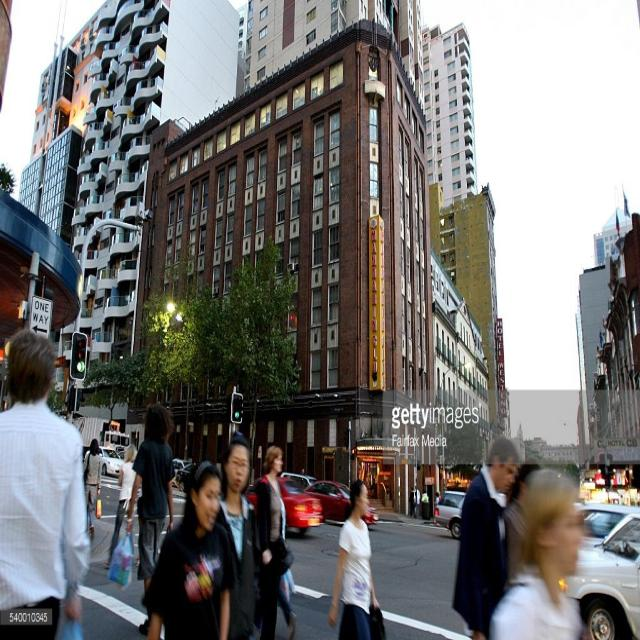body: (0, 325, 90, 640), (138, 457, 238, 639), (488, 466, 585, 640), (451, 432, 518, 640), (124, 401, 176, 637), (218, 431, 260, 638), (327, 477, 380, 640), (254, 444, 295, 640), (253, 473, 294, 640), (503, 455, 543, 594), (104, 443, 137, 571), (82, 436, 103, 540), (412, 484, 422, 519), (408, 485, 417, 519), (434, 491, 440, 505), (437, 489, 442, 504)
